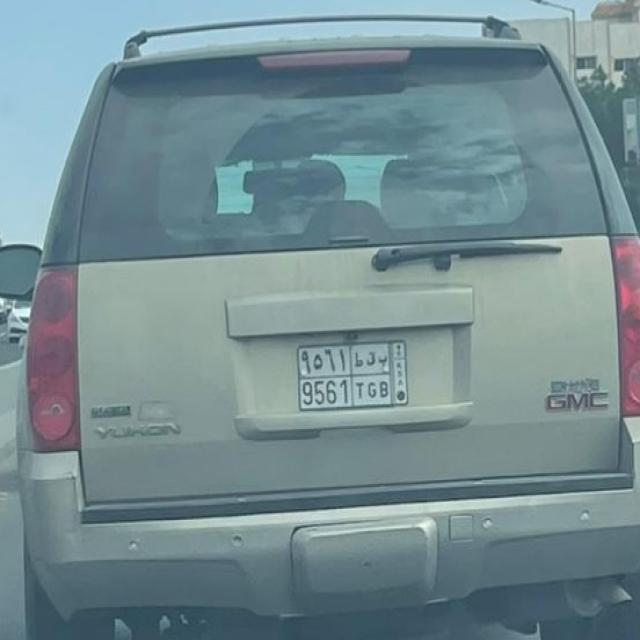license_plate: (294, 337, 410, 412)
